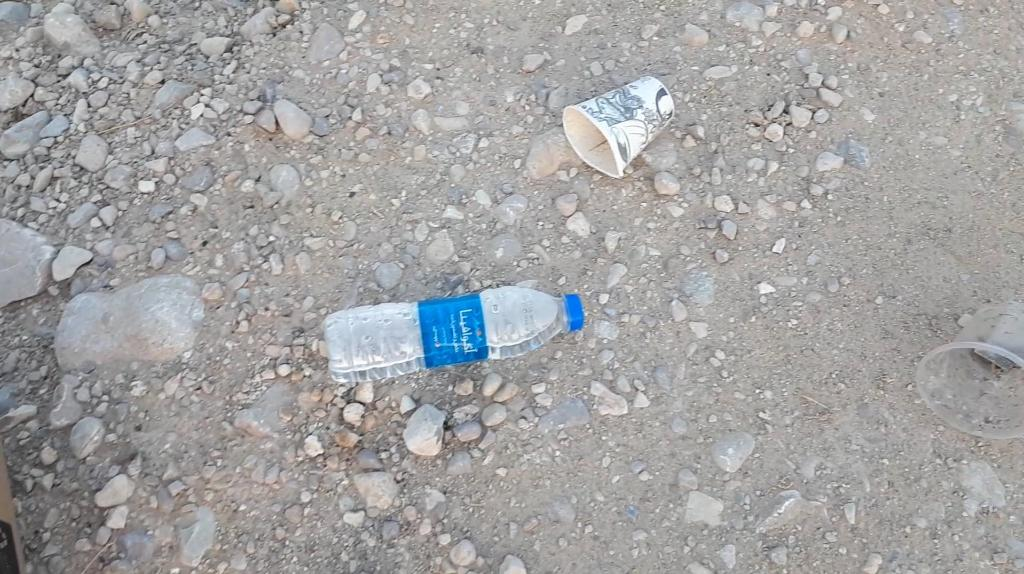garbage: (307, 277, 608, 389), (324, 286, 585, 383), (556, 54, 696, 174)
